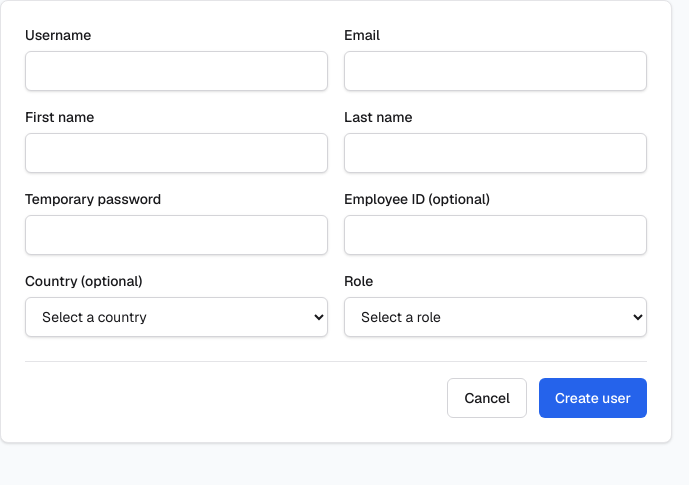
CreateUserForm › shows a validation error when no role is selected
Type "jdoe" into the field labelled "Username".
click(176, 71); type("jdoe")  # box x1=25 y1=51 x2=328 y2=91
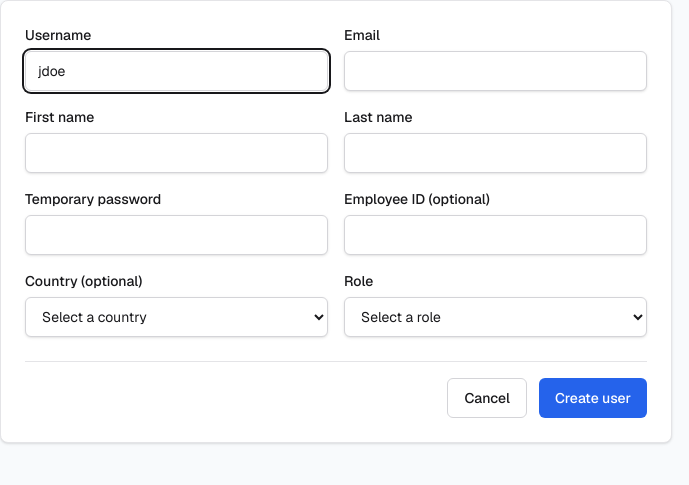
Type "jdoe@example.com" into the field labelled "Email".
click(496, 71); type("jdoe@example.com")  # box x1=344 y1=51 x2=647 y2=91
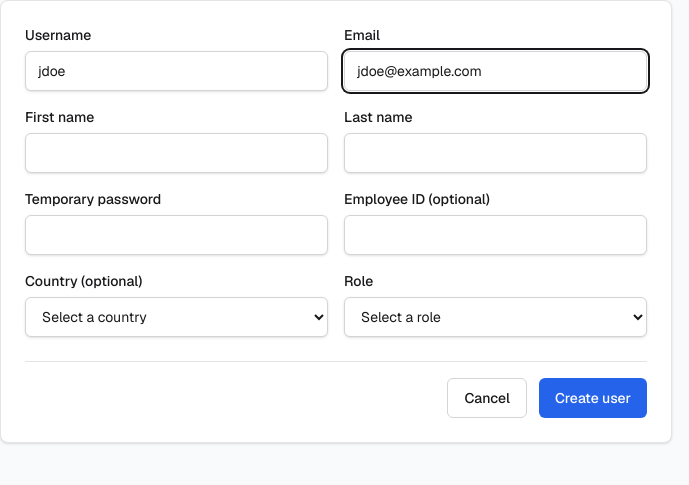
Type "Password@123" into the password field labelled "Temporary password".
click(176, 235); type("Password@123")  # box x1=25 y1=215 x2=328 y2=255
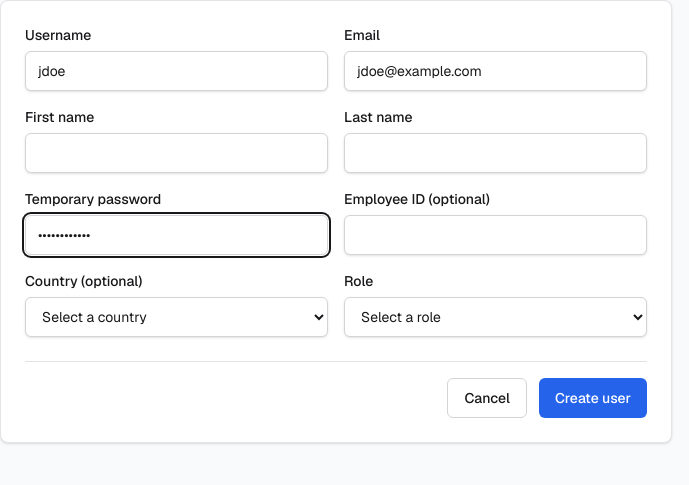
Type "Jane" into the field labelled "First name".
click(176, 153); type("Jane")  # box x1=25 y1=133 x2=328 y2=173
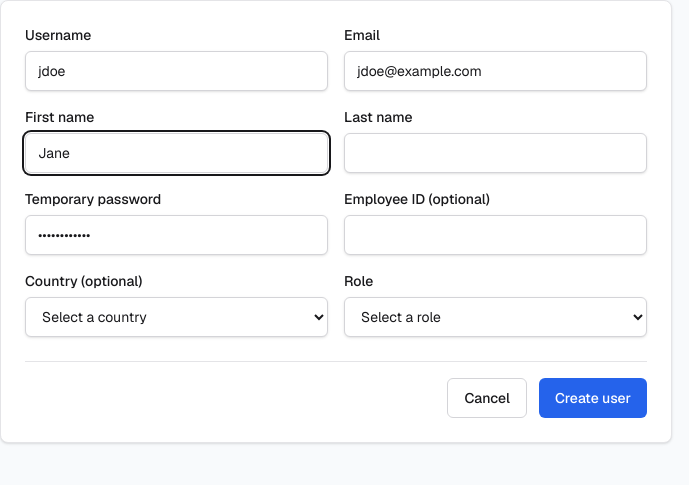
Type "Doe" into the field labelled "Last name".
click(496, 153); type("Doe")  # box x1=344 y1=133 x2=647 y2=173
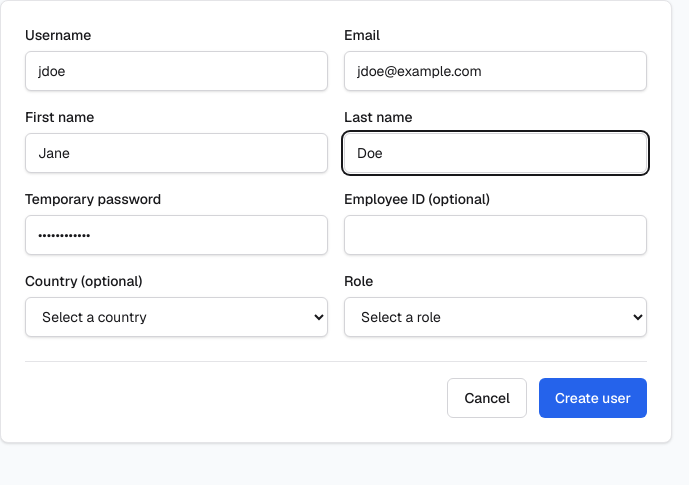
Click the button "Create user".
click(593, 398)  # box x1=539 y1=378 x2=647 y2=418
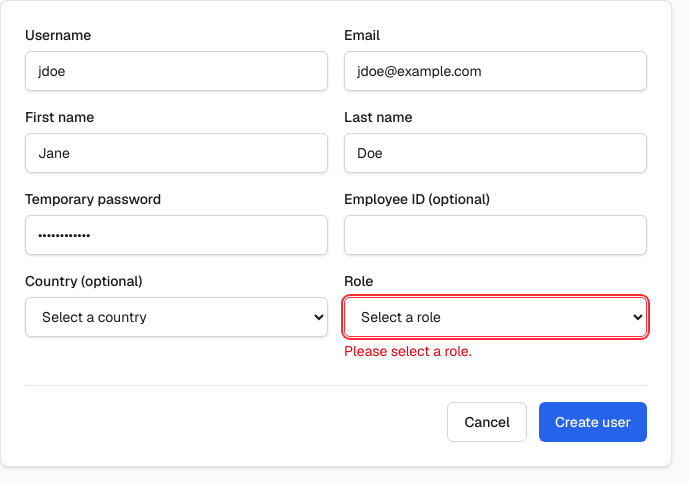
Expected: the text "Please select a role." is shown, x1=344 y1=342 x2=472 y2=360
